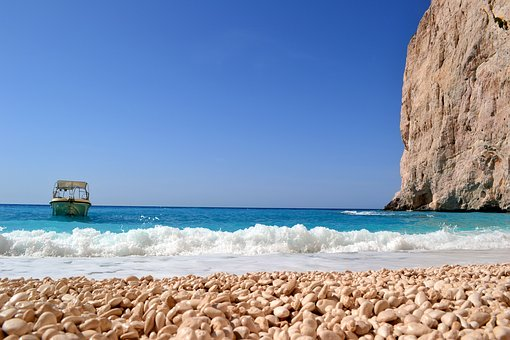beach: (3, 203, 510, 329)
mountain: (404, 4, 509, 212)
sky: (5, 4, 387, 208)
